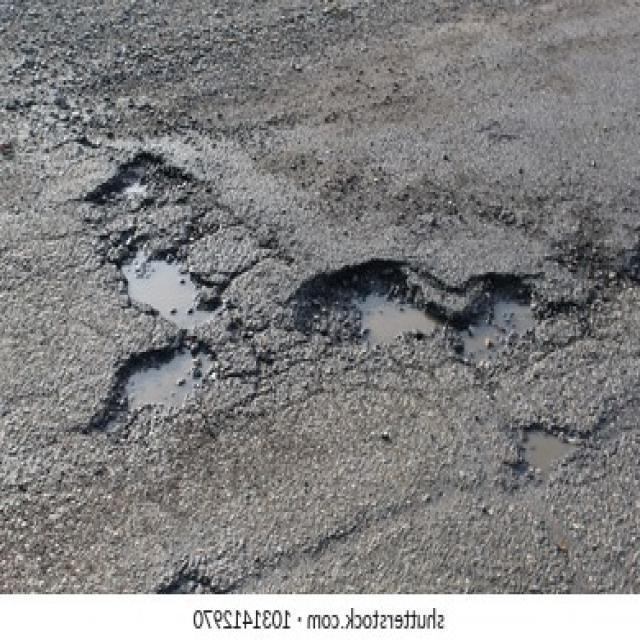pothole: (289, 254, 442, 357), (87, 338, 217, 437), (113, 236, 223, 332), (450, 270, 547, 373), (86, 149, 191, 213), (563, 236, 640, 307), (515, 418, 584, 480), (155, 567, 225, 595)
